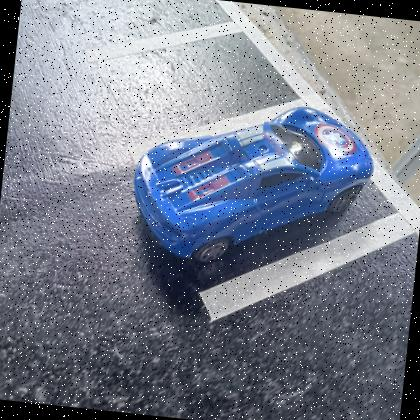Car: (133, 103, 373, 263)
